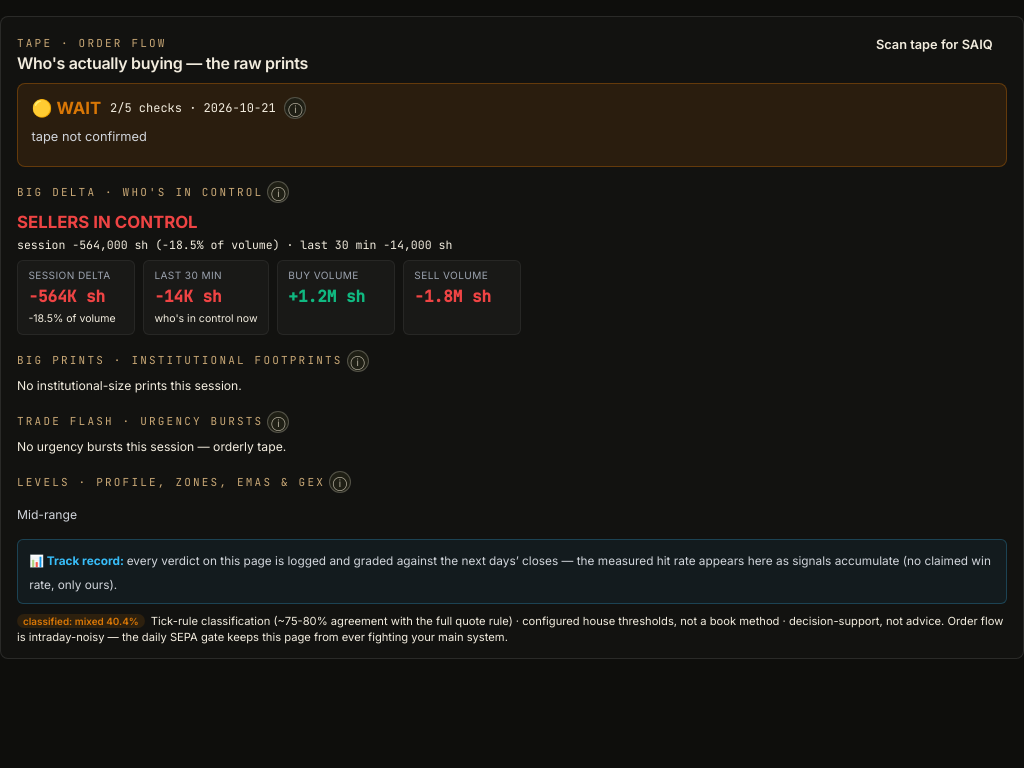
Test: TapePanel — 🎚 one served control line (2026-10-21) › the ⓘ "What is delta?" carries the headline sentence
Expected: the text "🟡 WAIT" is shown, [32, 95, 101, 121]
Click the button named "What is What is delta??".
click(278, 192)  # box [267, 181, 289, 203]
(page scrolled)
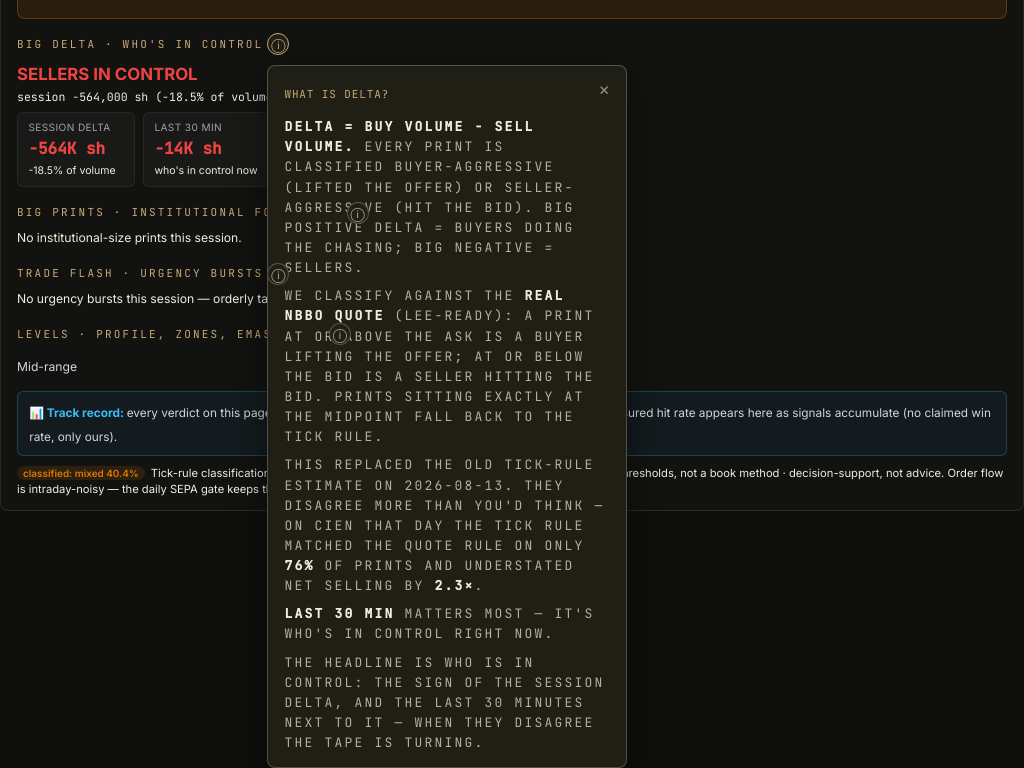
Now the text with test id "tape-control-info" shows "The headline is who is in control: the sign of the session delta, and the last 30 minutes next to it — when they disagree the tape is turning.", box [284, 654, 604, 751]
